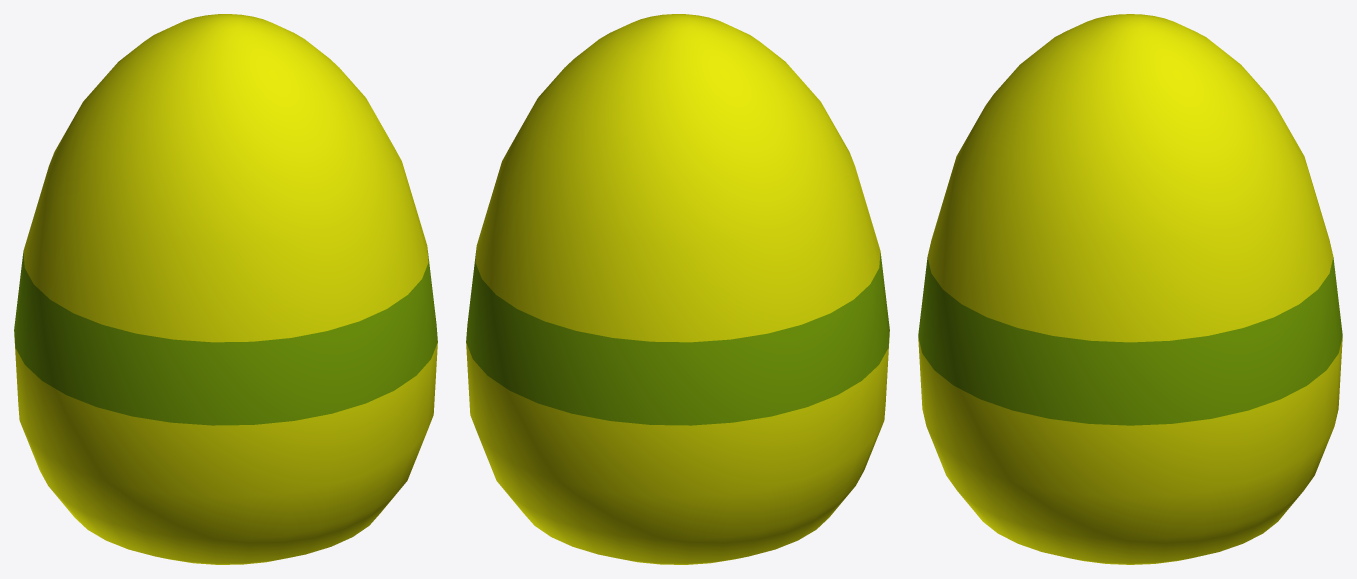
The model's file is Lightning_01.fbx.
The picture shows the model from 3 angles, left to right: view 1: azimuth 30°, elevation 25°; view 2: azimuth 150°, elevation 25°; view 3: azimuth 270°, elevation 25°; orthographic projection.
Visible parts, largest first — view 1: Lightning_01; view 2: Lightning_01; view 3: Lightning_01.
Part boxes in pixels (box(x1,y1,x2,y2)): Lightning_01: box(14, 14, 437, 564); Lightning_01: box(466, 14, 889, 564); Lightning_01: box(918, 14, 1342, 564).
Bounding box in the file's own units: 315 × 417 × 315.
